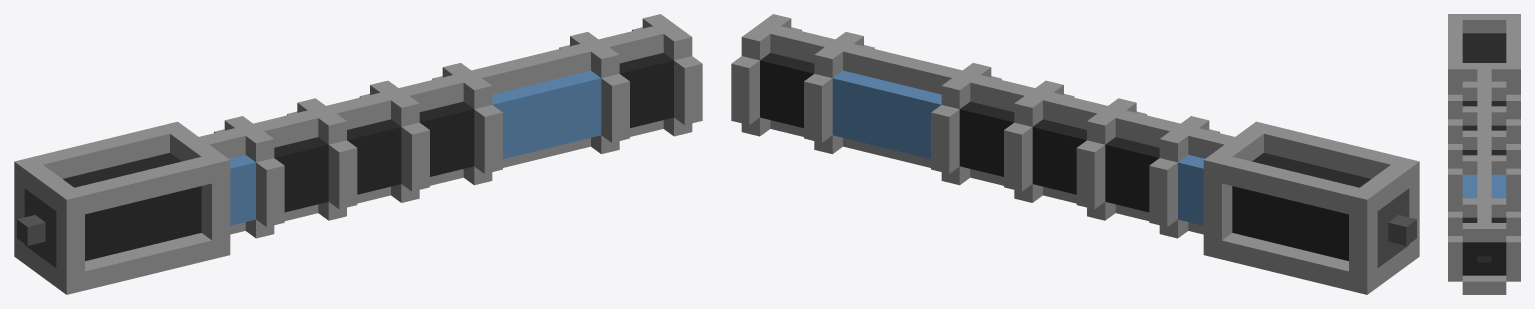
Rendered from WeaponBarrel#3.fbx.
3 renders of one model, left to right at view 1: azimuth 30°, elevation 25°; view 2: azimuth 150°, elevation 25°; view 3: azimuth 270°, elevation 25°, orthographic. The views are drawn at different scales.
Parts seen in each view (by area): view 1: WeaponBarrel#3; view 2: WeaponBarrel#3; view 3: WeaponBarrel#3.
Part boxes in pixels (left/top/right/bottom): WeaponBarrel#3: left=14, top=14, right=702, bottom=294; WeaponBarrel#3: left=731, top=14, right=1419, bottom=294; WeaponBarrel#3: left=1448, top=14, right=1520, bottom=294.
Size of the model in its own units: 360 by 50 by 50.
1 material, 1 textured.
